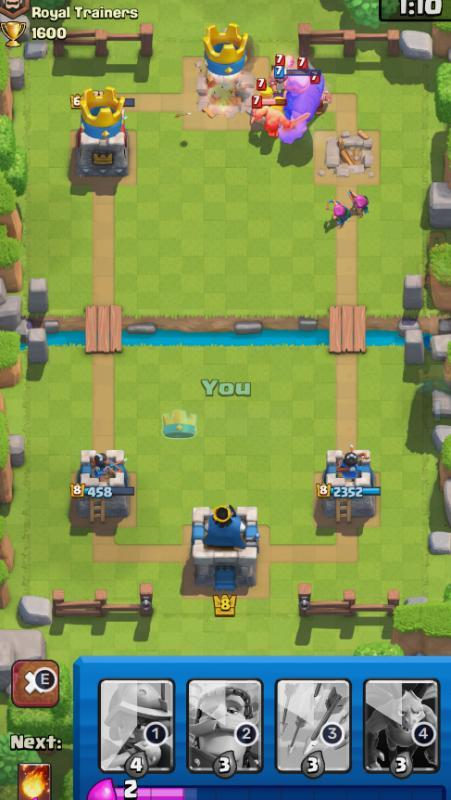enemy_barbarians: (245, 95, 314, 143), (254, 78, 275, 97)
player_archers: (320, 194, 351, 231), (345, 184, 374, 217)
player_giant: (276, 68, 326, 144)
